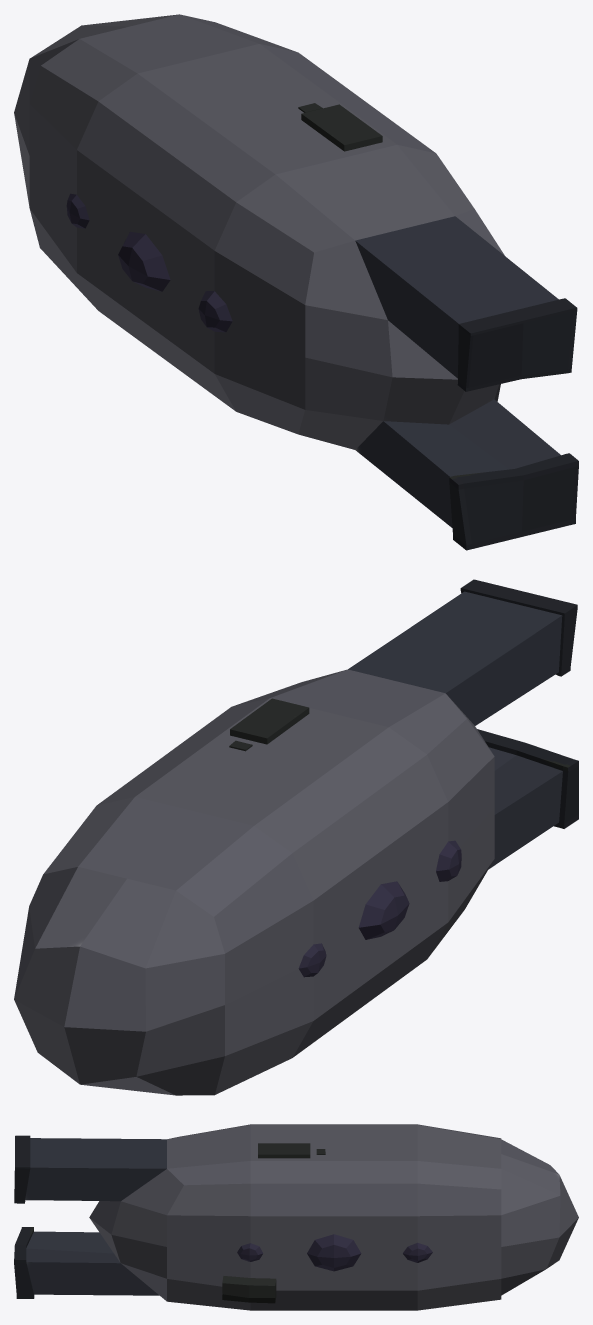
The model's file is spaceship.fbx.
The picture shows the model from 3 angles, top to bottom: view 1: azimuth 30°, elevation 25°; view 2: azimuth 150°, elevation 25°; view 3: azimuth 270°, elevation 25°; orthographic projection. The views are drawn at different scales.
Visible parts, largest first — view 1: Cube; view 2: Cube; view 3: Cube.
Boxes of the visible parts, x1,y1,x2,y2 form: Cube: [14, 14, 578, 550]; Cube: [14, 579, 578, 1095]; Cube: [14, 1124, 578, 1310].
Size of the model in its own units: 277 by 241 by 807.
Materials: 1 (1 with a texture image).
